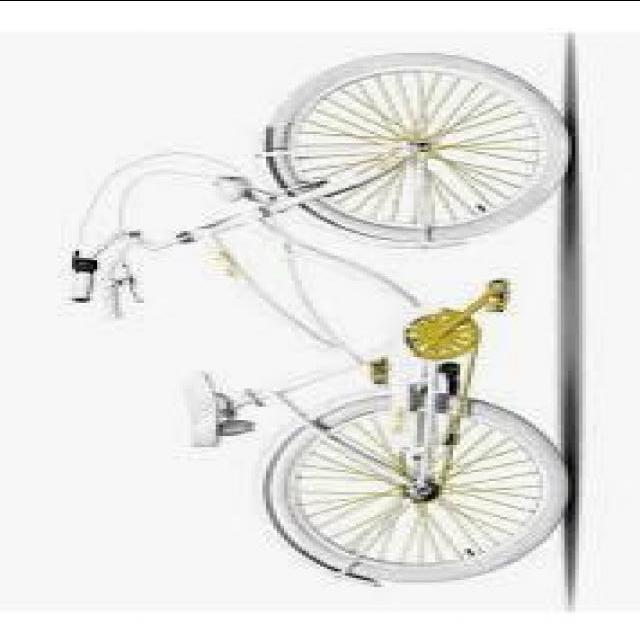bicycle: (55, 46, 587, 587)
